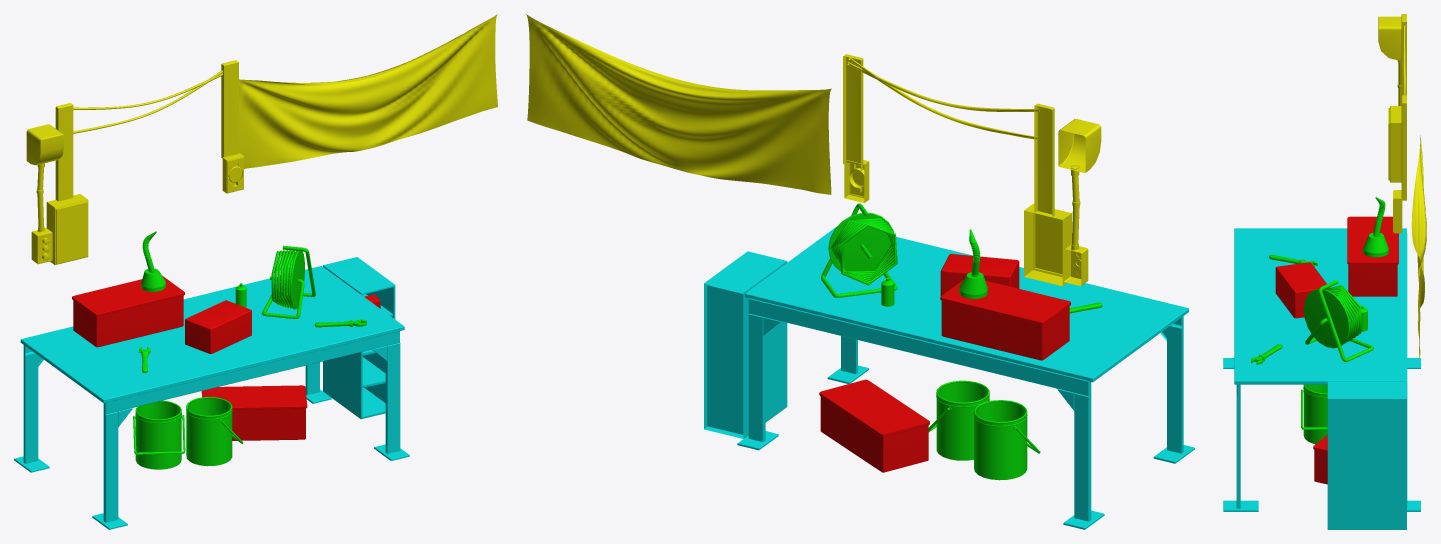
Rendered from SM_Etabli_01.fbx.
3 views of the same model, side by side, from view 1: azimuth 30°, elevation 25°; view 2: azimuth 150°, elevation 25°; view 3: azimuth 270°, elevation 25° (orthographic). The views are drawn at different scales.
Visible parts, largest first — view 1: Table, Decors, Boites, Objets; view 2: Table, Decors, Boites, Objets; view 3: Table, Objets, Boites, Decors.
Part boxes in pixels (box(x1,y1,x2,y2)): Table: box(14, 257, 409, 529); Decors: box(26, 14, 497, 264); Boites: box(72, 275, 380, 440); Objets: box(133, 231, 366, 469); Table: box(704, 226, 1194, 529); Decors: box(526, 14, 1101, 286); Boites: box(819, 254, 1070, 472); Objets: box(821, 203, 1102, 480); Table: box(1223, 228, 1420, 529); Objets: box(1251, 197, 1388, 444); Boites: box(1275, 216, 1398, 484); Decors: box(1378, 14, 1426, 358).
Size of the model in its own units: 3.66 by 2.55 by 1.28.
